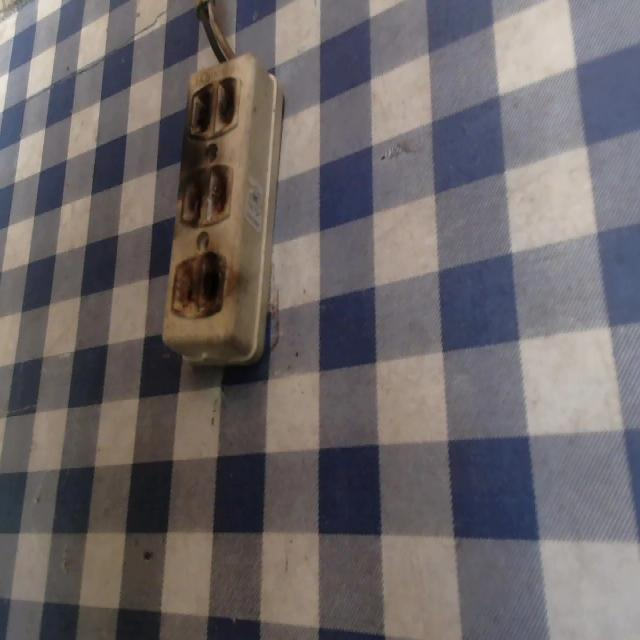-: (169, 248, 228, 321), (176, 160, 234, 227), (185, 75, 241, 137)
